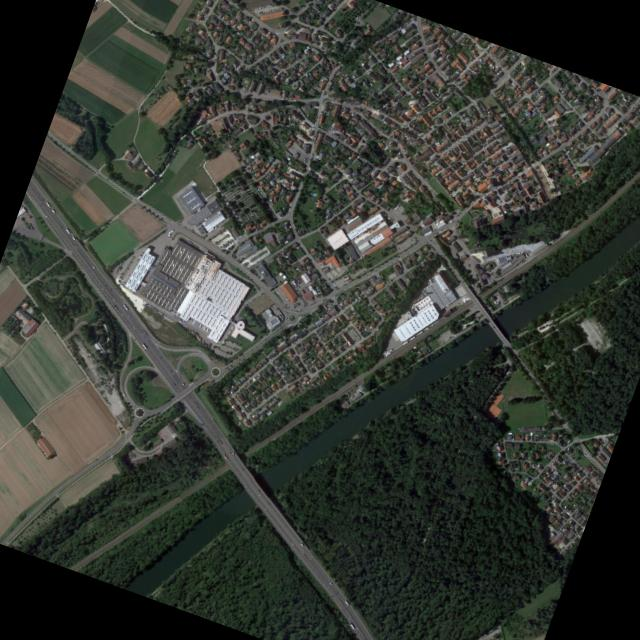large-vehicle: (66, 227, 71, 234), (142, 342, 147, 349), (46, 201, 51, 207), (72, 235, 76, 240), (52, 209, 56, 213)
